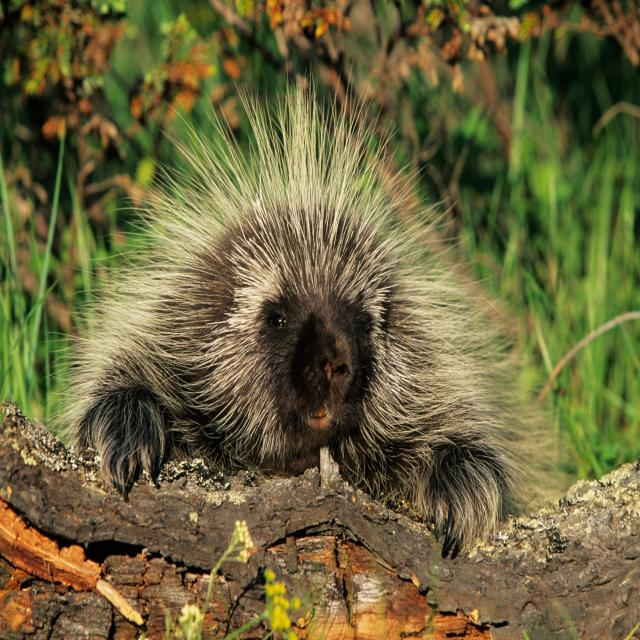Porcupine: (67, 96, 526, 540)
